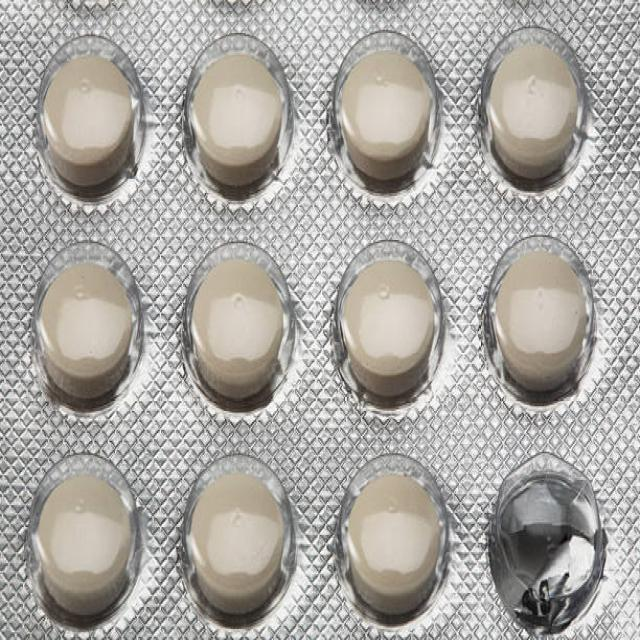Empty: (482, 446, 618, 640)
Pill: (472, 228, 612, 415), (164, 232, 302, 413), (167, 448, 300, 627), (20, 23, 148, 208), (332, 440, 457, 628), (312, 24, 442, 197), (332, 235, 451, 412), (24, 230, 139, 412), (180, 27, 300, 201), (30, 452, 142, 629), (479, 16, 587, 190)
